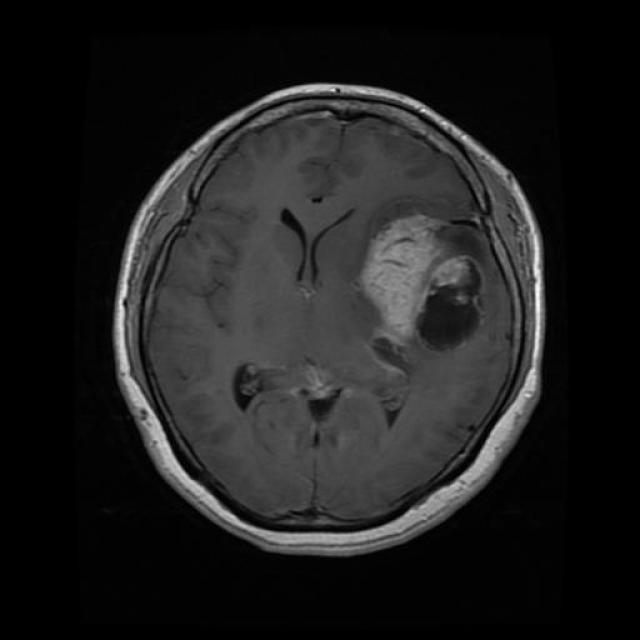Tumor: (360, 212, 488, 362)
